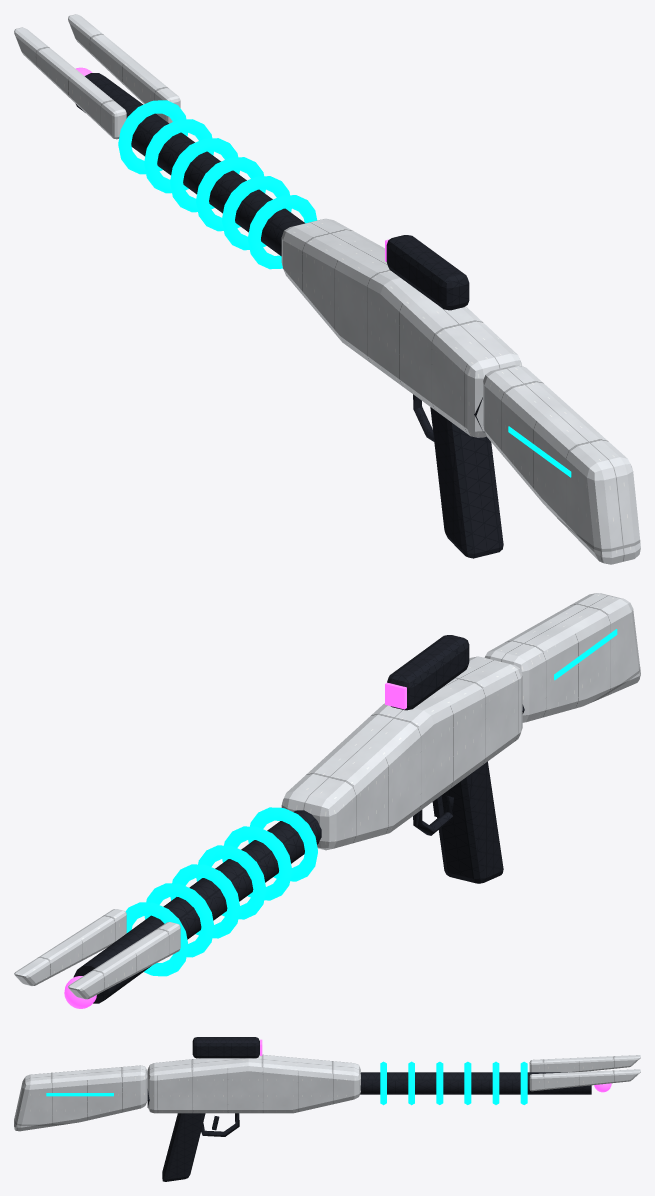
Rendered from weapon_ion_lance.glb.
The picture shows the model from 3 angles, top to bottom: view 1: azimuth 30°, elevation 25°; view 2: azimuth 150°, elevation 25°; view 3: azimuth 270°, elevation 25°; orthographic projection. The views are drawn at different scales.
Visible parts, largest first — view 1: weapon_ion_lance; view 2: weapon_ion_lance; view 3: weapon_ion_lance.
Part boxes in pixels (x1,y1,x2,y2): weapon_ion_lance: [14, 14, 640, 564]; weapon_ion_lance: [14, 593, 640, 1008]; weapon_ion_lance: [14, 1037, 640, 1181].
Bounding box in the file's own units: 0.078 × 0.2742 × 1.12.
Materials: 4 (2 with a texture image).
